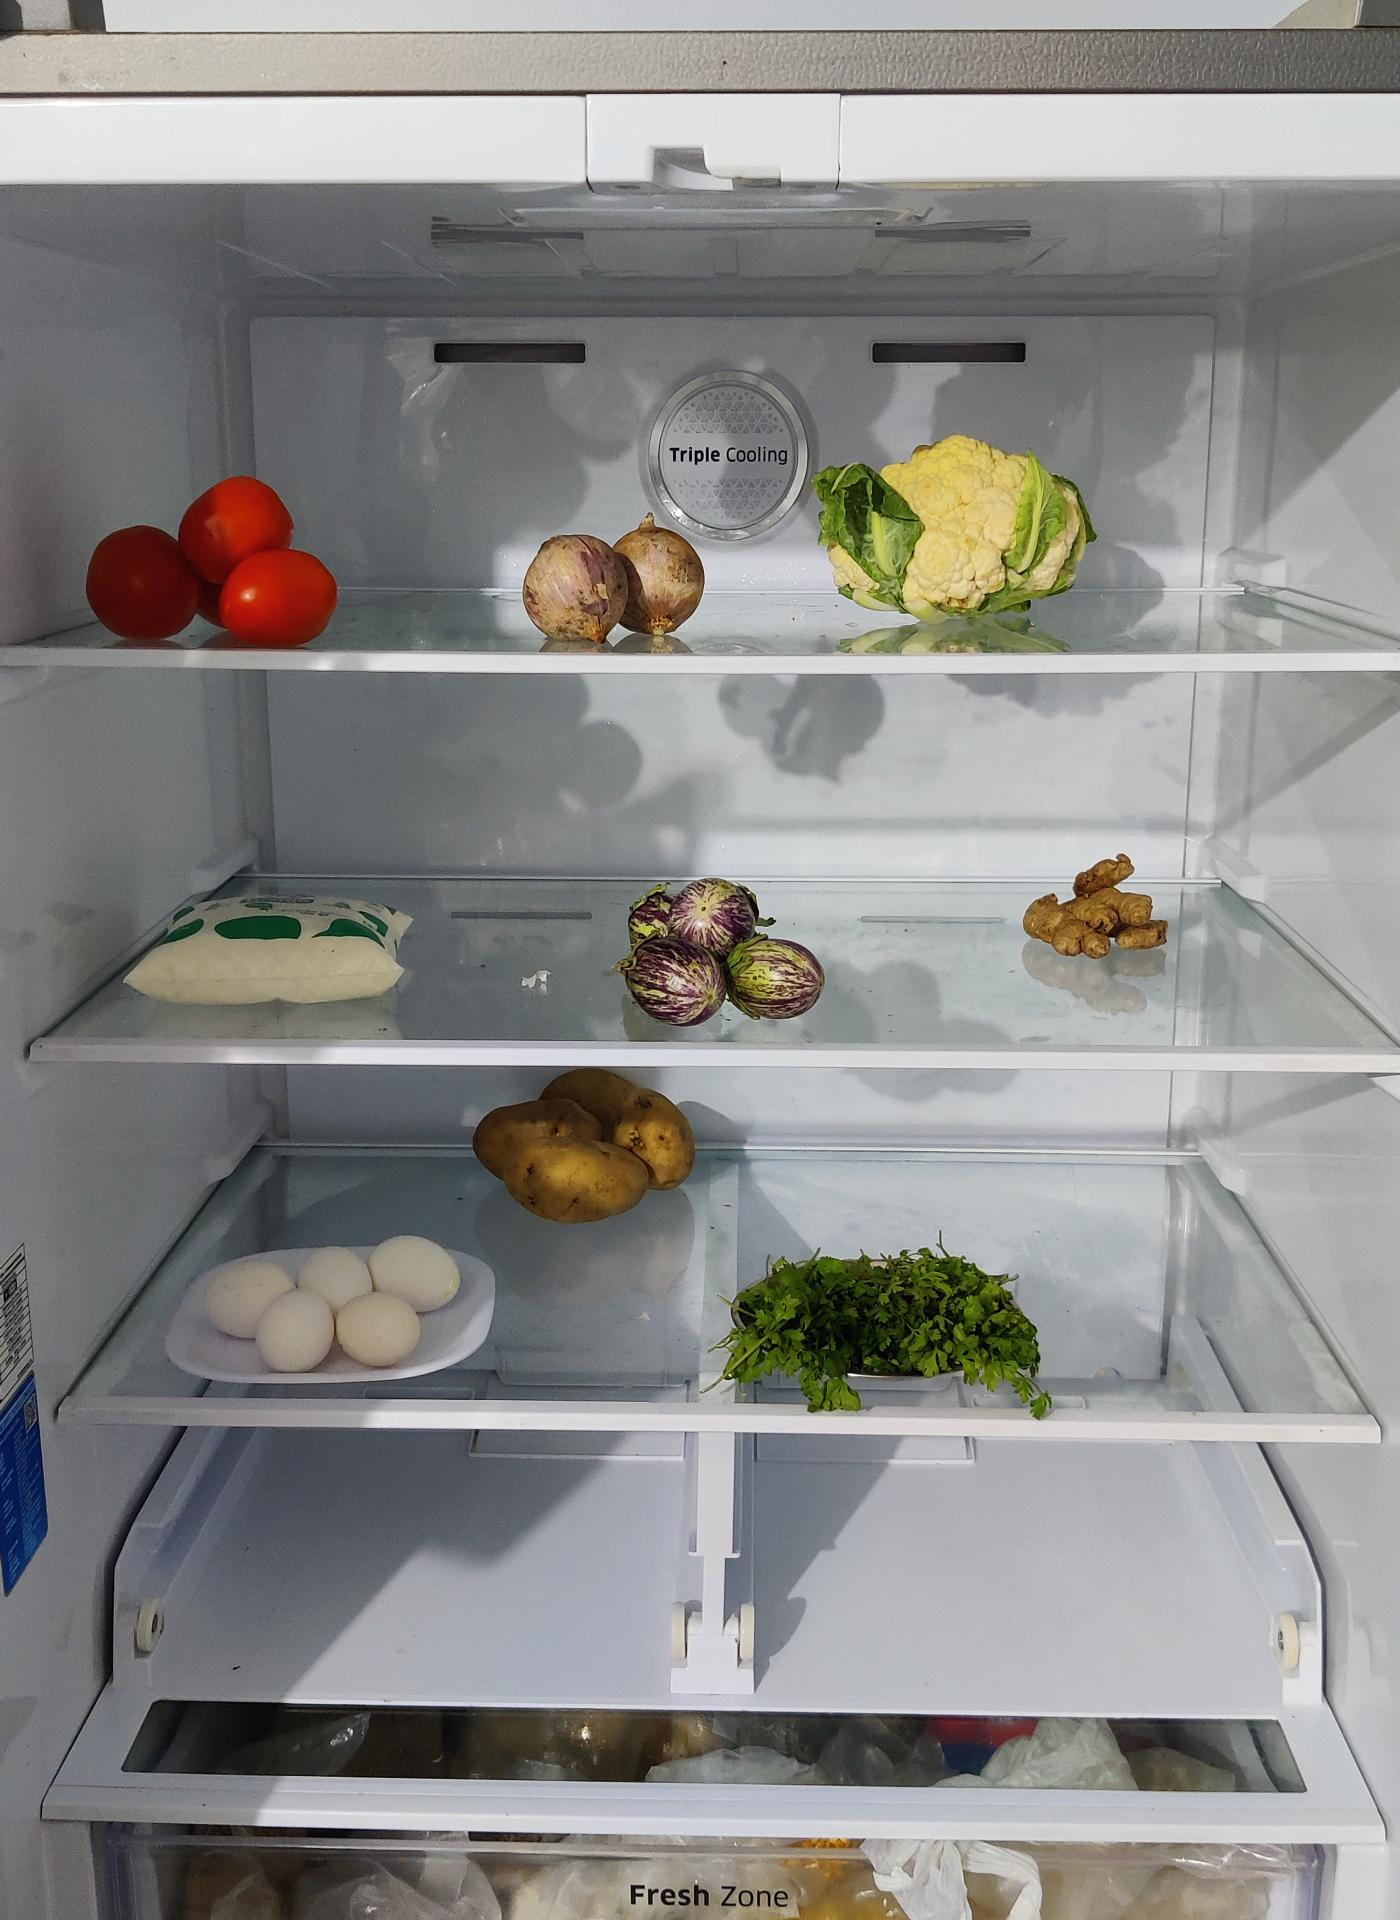brinjal: (613, 875, 835, 1032)
cauliflower: (827, 440, 1090, 623)
coriander: (725, 1240, 1045, 1392)
egg: (206, 1234, 467, 1370)
ginger: (1023, 847, 1172, 956)
milk: (133, 905, 414, 1012)
onion: (514, 519, 716, 647)
potato: (476, 1061, 699, 1213)
tomato: (83, 481, 337, 651)
